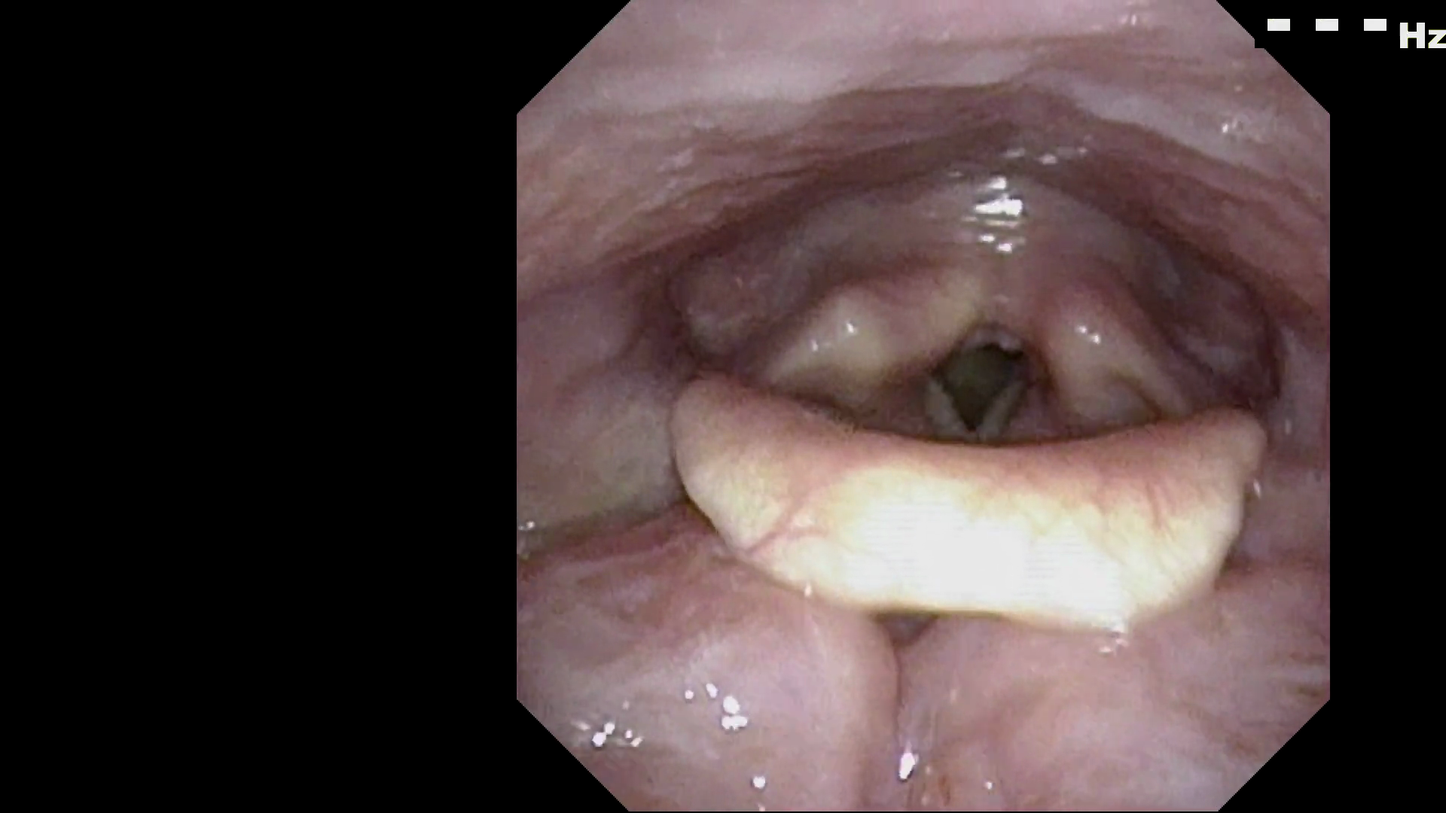epiglottis: (654, 368, 1272, 641)
trachea: (902, 310, 1056, 471)
